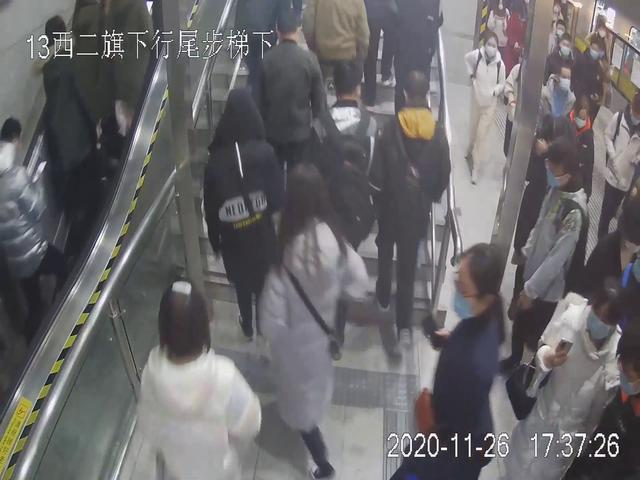person: (253, 166, 363, 478), (179, 86, 304, 360), (124, 277, 269, 480), (359, 67, 459, 352), (400, 238, 502, 480), (509, 136, 596, 373), (520, 288, 624, 480), (257, 15, 324, 193), (461, 36, 506, 185)
